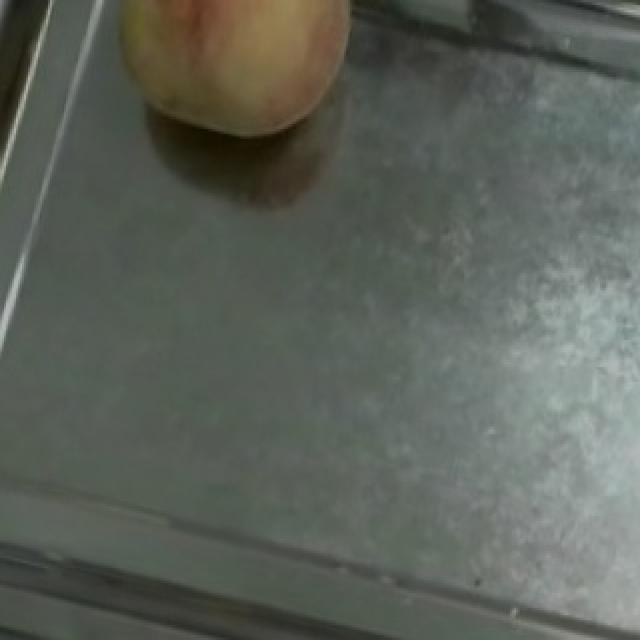Fruit: (78, 0, 384, 176)
